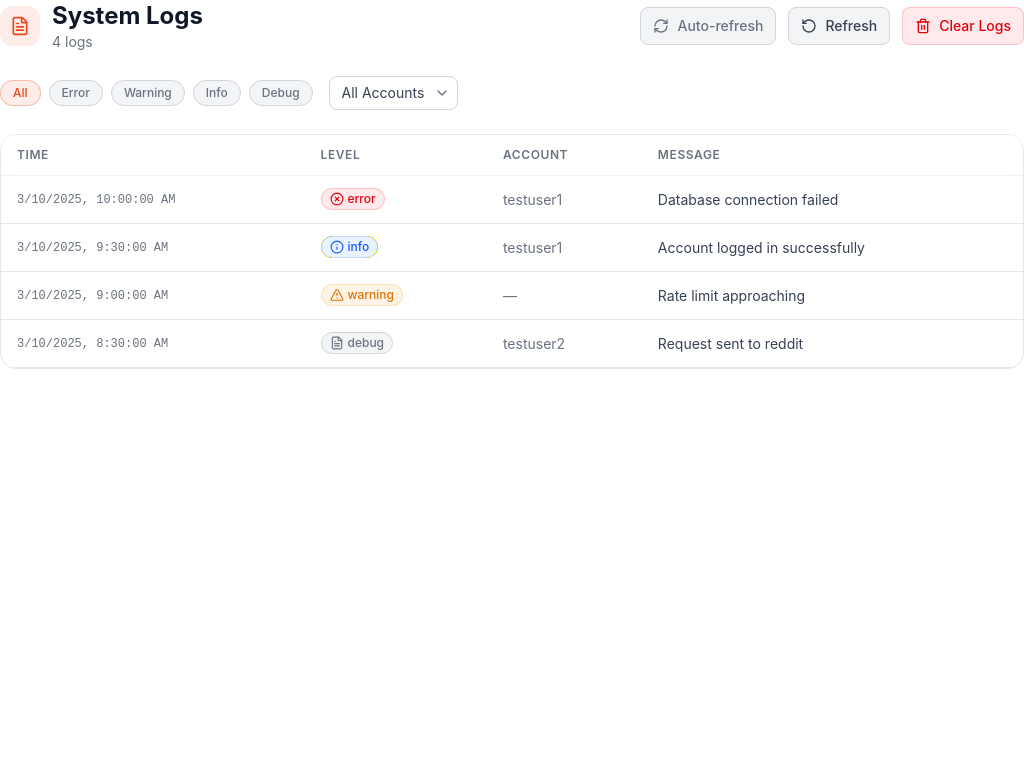
it: SystemLogs › shows confirm dialog when clicking clear logs
The image size is (1024, 768).
Expected: the text "Database connection failed" is shown, [642, 176, 1023, 224]
Click the button "Clear Logs" at (963, 26), box [902, 7, 1023, 45]
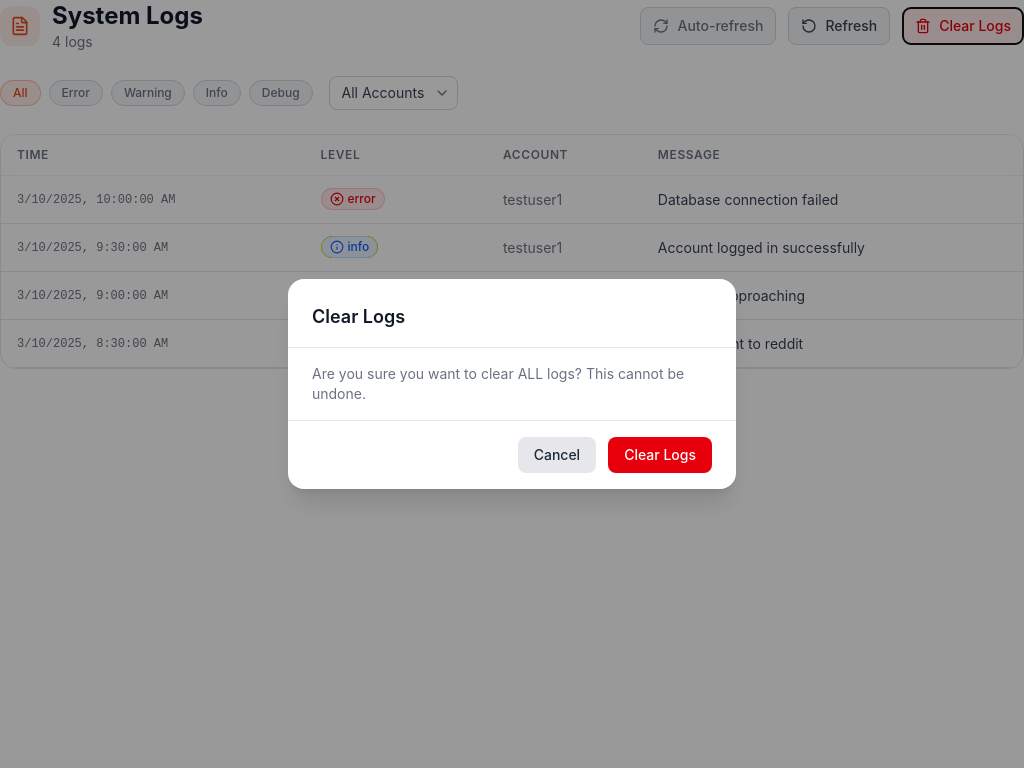
Expected: the text "Are you sure you want to clear ALL logs" is shown, [312, 365, 684, 402]
